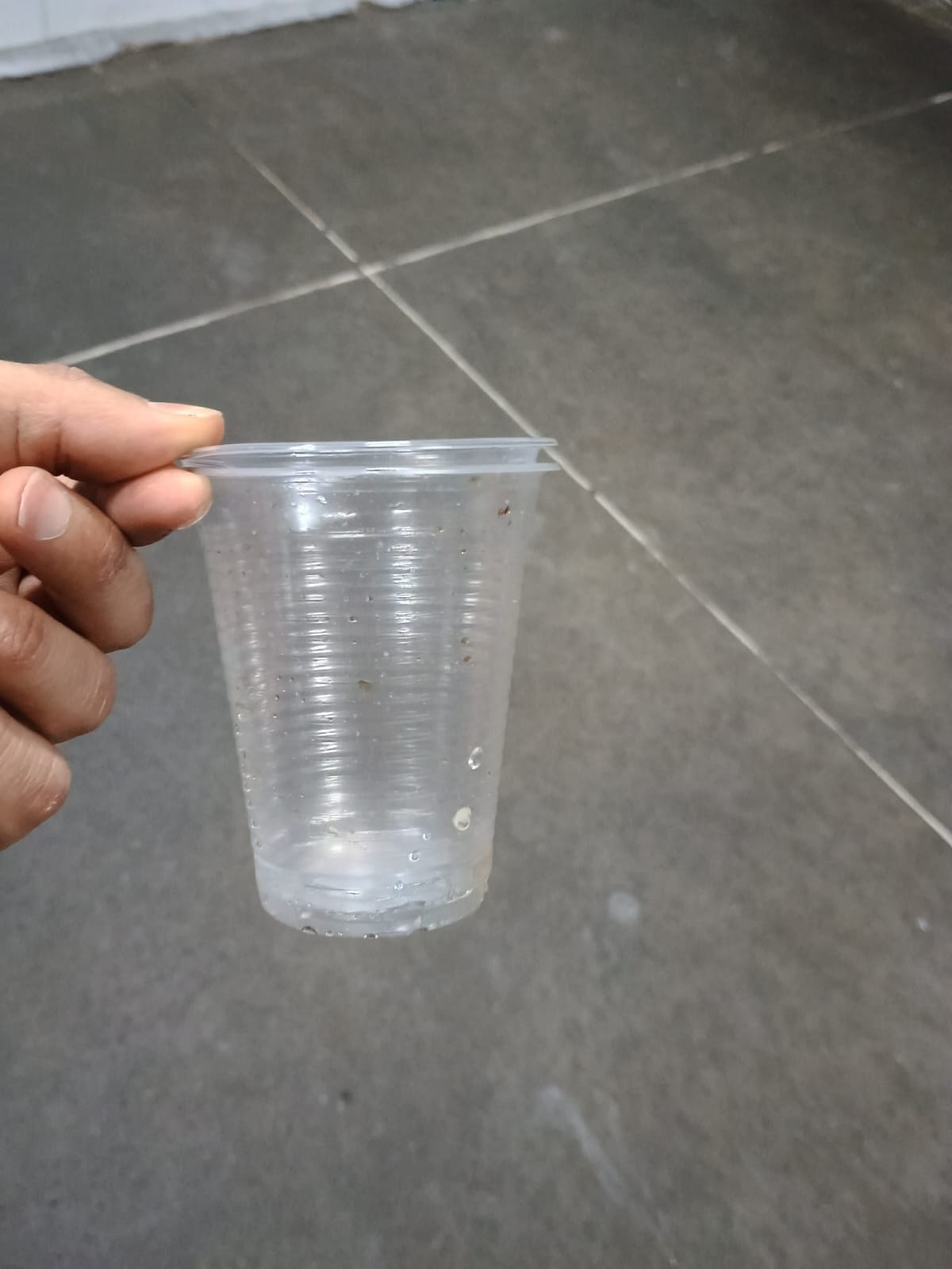Plastico: (177, 439, 556, 942)
